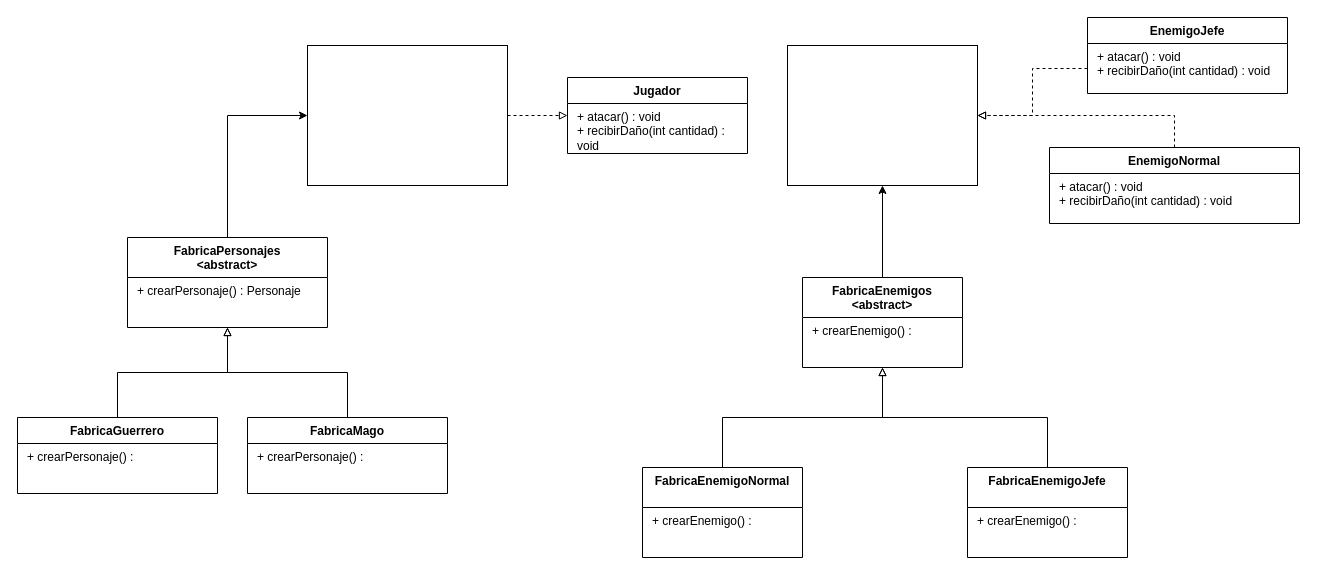
This 1317x578 diagram has some shape labels left out. The shapes that lost their labels are listed below. From the top down, each one's centre as x and y in pixels, then its label:
the point at 407,115: Personaje <<Interface>> + atacar() : void + recibirDaño(int cantidad) : void
the point at 882,115: Enemigo <<Interface>> + atacar() : void + recibirDaño(int cantidad) : void
